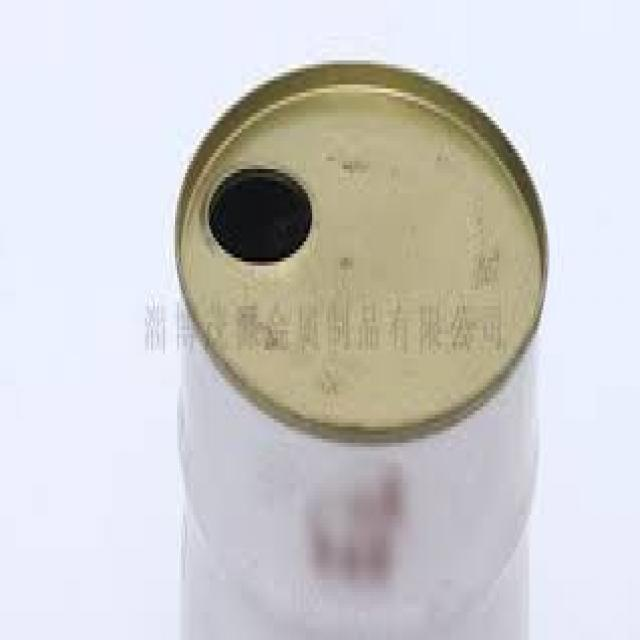recyclable: (167, 56, 547, 640)
